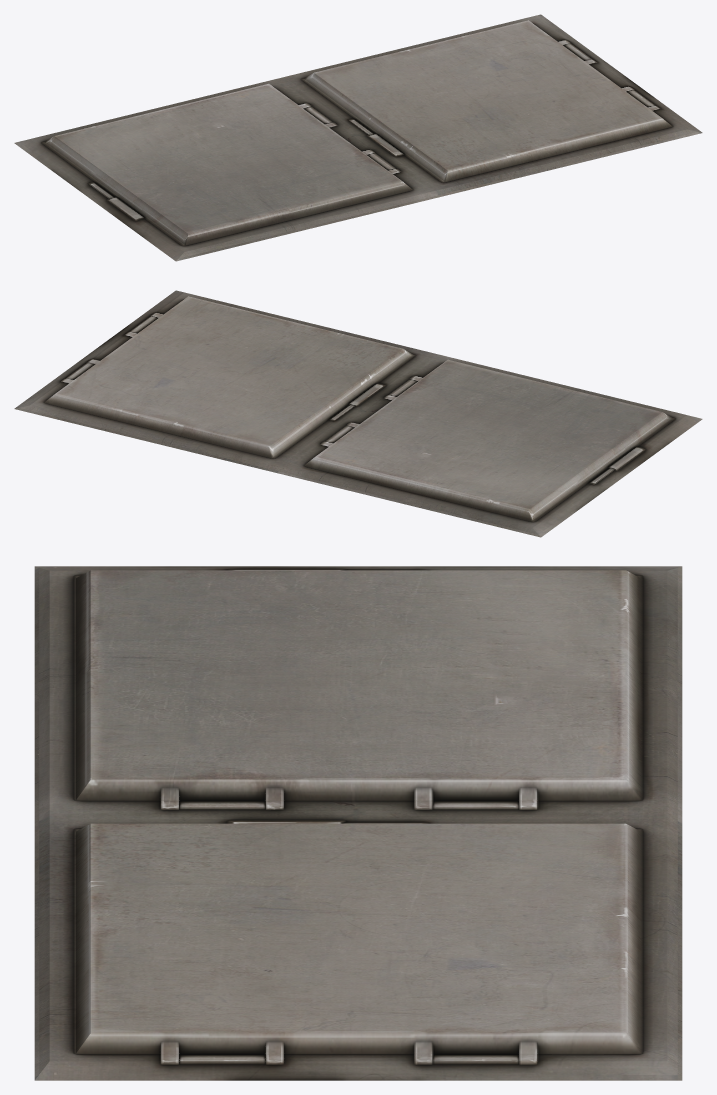
Rendered from floorpanel.FBX.
3 renders of one model, top to bottom at view 1: azimuth 30°, elevation 25°; view 2: azimuth 150°, elevation 25°; view 3: azimuth 270°, elevation 25°, orthographic. The views are drawn at different scales.
Visible parts, largest first — view 1: floorpanel; view 2: floorpanel; view 3: floorpanel.
Boxes of the visible parts, x1,y1,x2,y2 form: floorpanel: [14, 14, 702, 261]; floorpanel: [14, 290, 702, 537]; floorpanel: [34, 566, 682, 1080].
Size of the model in its own units: 104 by 2.04 by 55.33.
